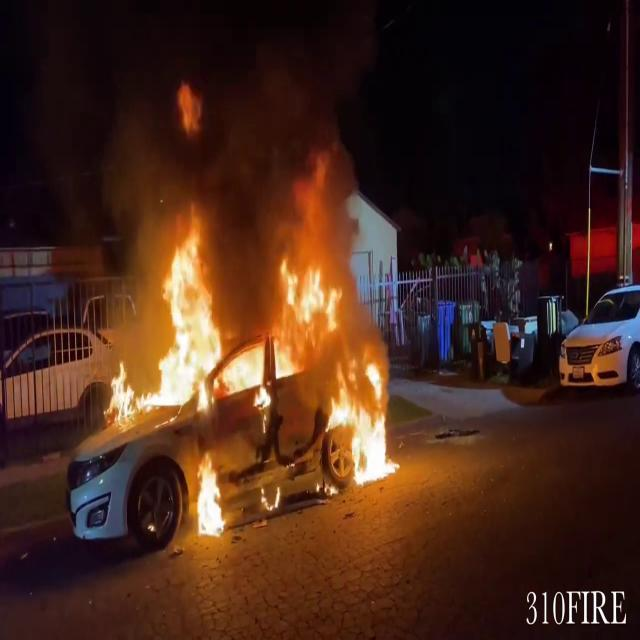Fire: (104, 203, 396, 490), (191, 452, 234, 540)
Smoke: (81, 20, 372, 269)
